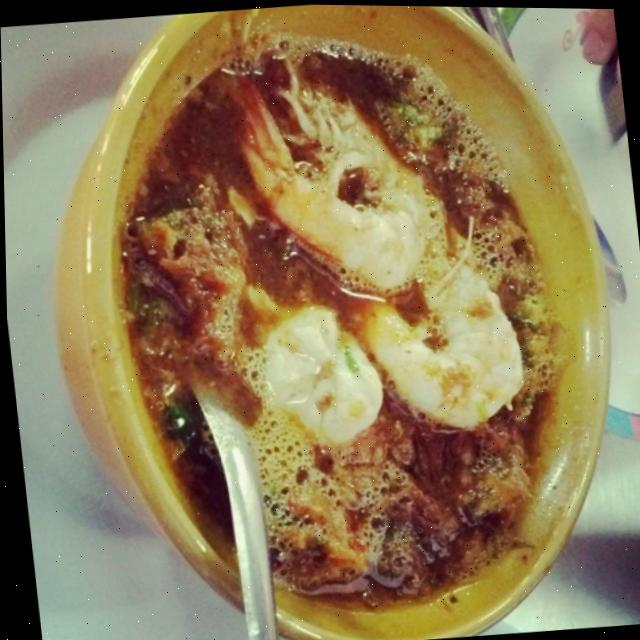汤锅炖物: (75, 1, 619, 631)
